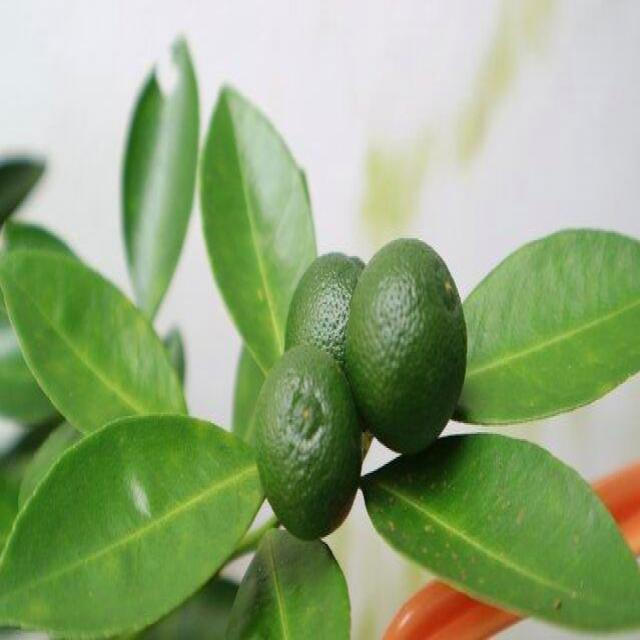Jeruk Belum Matang: (348, 238, 464, 448), (258, 344, 359, 542), (286, 250, 366, 368)
